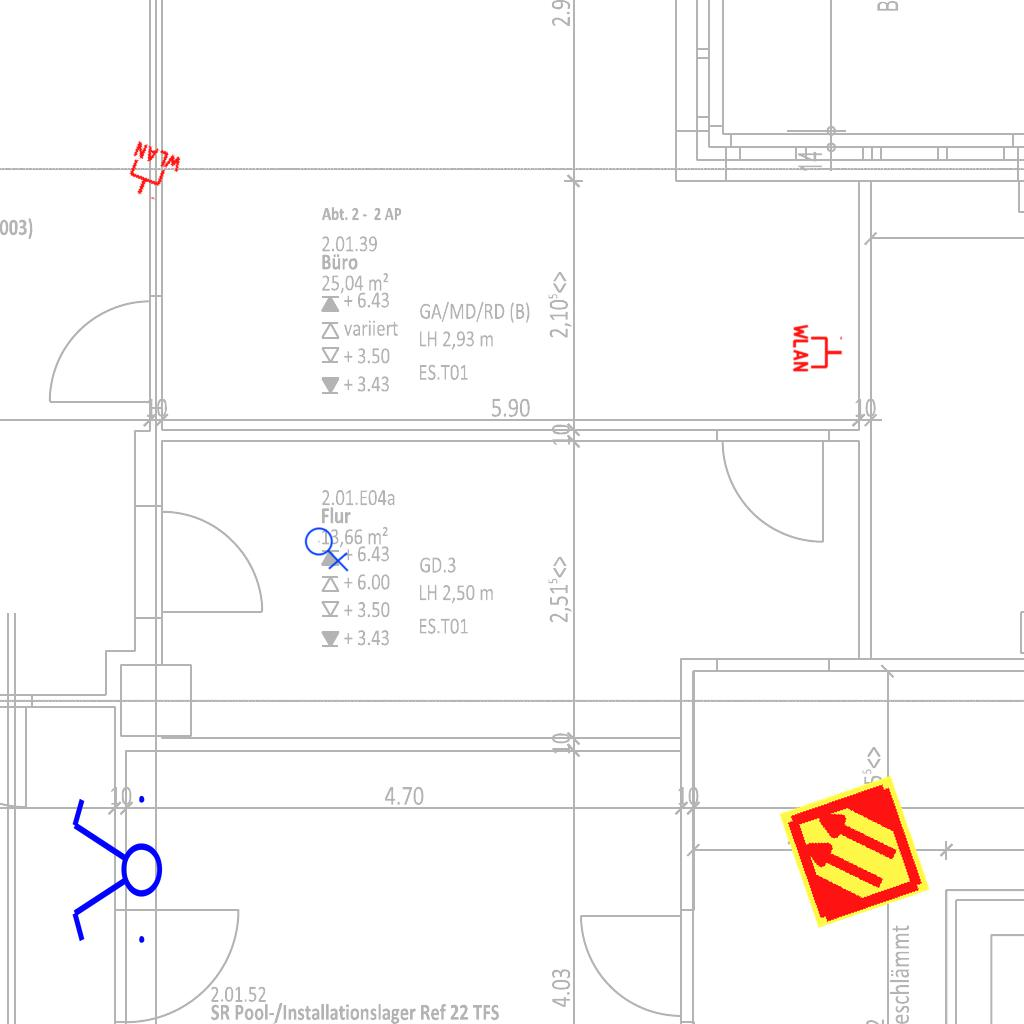ASR_Ansaugrauchmelder: (775, 772, 934, 931)
Elektroanschluss_allgemein_230V_Geraeteanschlussdose_230V: (304, 523, 351, 572)
Serienschalter: (68, 787, 164, 955)
WLAN: (118, 139, 186, 207), (792, 322, 844, 374)
